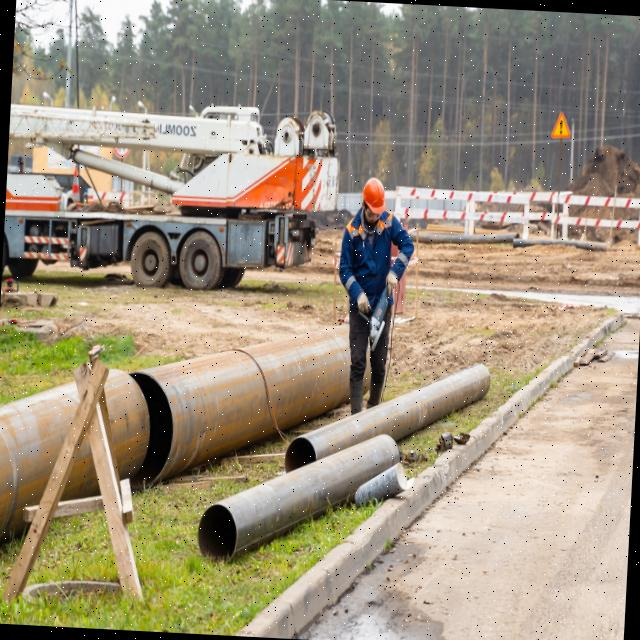Helmet: (360, 179, 389, 222)
Jacket: (344, 217, 399, 321)
